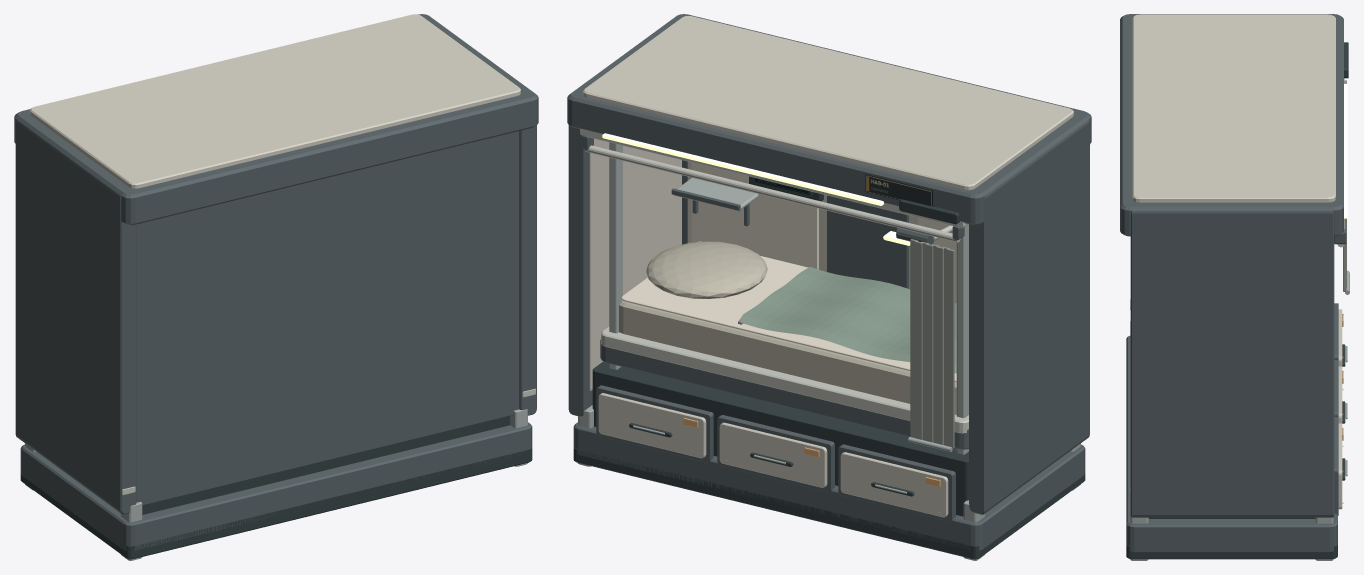
The model's file is crew_bunk_retro.glb.
3 renders of one model, left to right at view 1: azimuth 30°, elevation 25°; view 2: azimuth 150°, elevation 25°; view 3: azimuth 270°, elevation 25°, orthographic. The views are drawn at different scales.
Visible parts, largest first — view 1: static_graphite__graphite, static_bone__bone, static_deep__deep, static_steel__steel; view 2: static_graphite__graphite, static_bone__bone, static_deep__deep, static_fabric__fabric, static_cream__cream, Bedding_Blanket__olive, Privacy_Curtain__fabricdark, static_satinsteel__satinsteel, static_steel__steel, Drawer_01_Face__bone, Drawer_02_Face__bone, Drawer_03_Face__bone (+8 smaller); view 3: static_graphite__graphite, static_bone__bone, static_deep__deep, Overhead_Light_Emitter__lamp, Drawer_03_Frame__graphite, Drawer_03_Face__bone, static_steel__steel.
Part boxes in pixels (x1,y1,x2,y2): static_graphite__graphite: (14, 14, 538, 550); static_bone__bone: (29, 14, 520, 188); static_deep__deep: (20, 416, 532, 559); static_steel__steel: (25, 409, 527, 560); static_graphite__graphite: (567, 14, 1091, 550); static_bone__bone: (582, 16, 1073, 391); static_deep__deep: (573, 176, 1085, 559); static_fabric__fabric: (619, 241, 956, 414); static_cream__cream: (621, 162, 956, 381); Bedding_Blanket__olive: (739, 267, 956, 373); Privacy_Curtain__fabricdark: (910, 239, 954, 448); static_satinsteel__satinsteel: (580, 128, 968, 433); static_steel__steel: (578, 142, 1080, 560); Drawer_01_Face__bone: (840, 452, 948, 517); Drawer_02_Face__bone: (719, 422, 827, 487); Drawer_03_Face__bone: (598, 393, 706, 458); static_graphite__graphite: (1120, 14, 1346, 552); static_bone__bone: (1132, 14, 1335, 202); static_deep__deep: (1126, 42, 1348, 559); Overhead_Light_Emitter__lamp: (1344, 84, 1347, 218); Drawer_03_Frame__graphite: (1334, 417, 1338, 515); Drawer_03_Face__bone: (1338, 423, 1342, 509); static_steel__steel: (1130, 314, 1343, 560).
Size of the model in its own units: 2.28 by 1.96 by 1.13.
14 materials, 2 textured.
